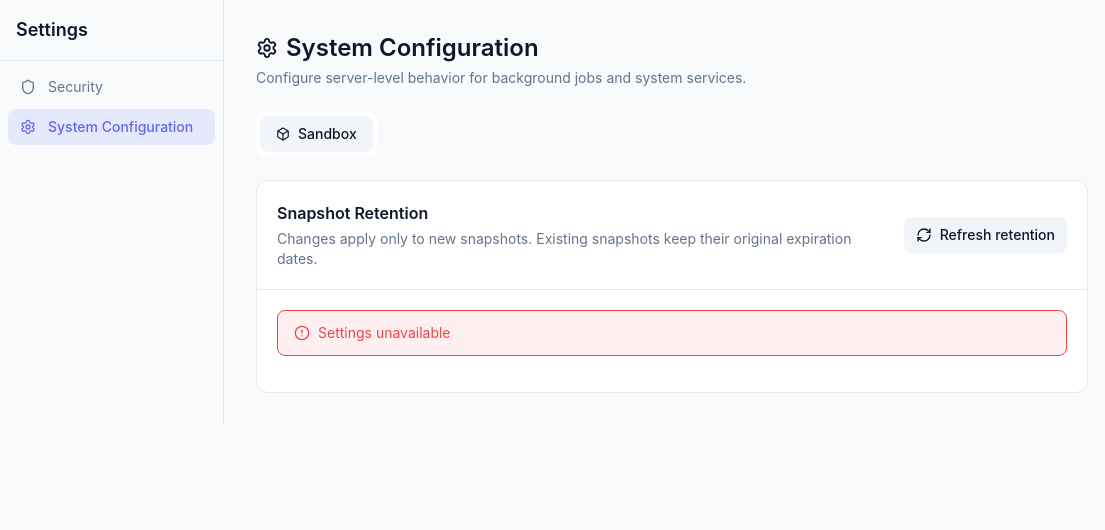
System configuration sandbox permissions › lets scoped users recover a failed retention load without fetching admin data
expect the message reads "Settings unavailable": met, box [318,324,450,341]
expect the button "save retention" is not shown: met
Step 1. Click the button "Refresh retention" → [985, 235], box [904,217,1067,253]
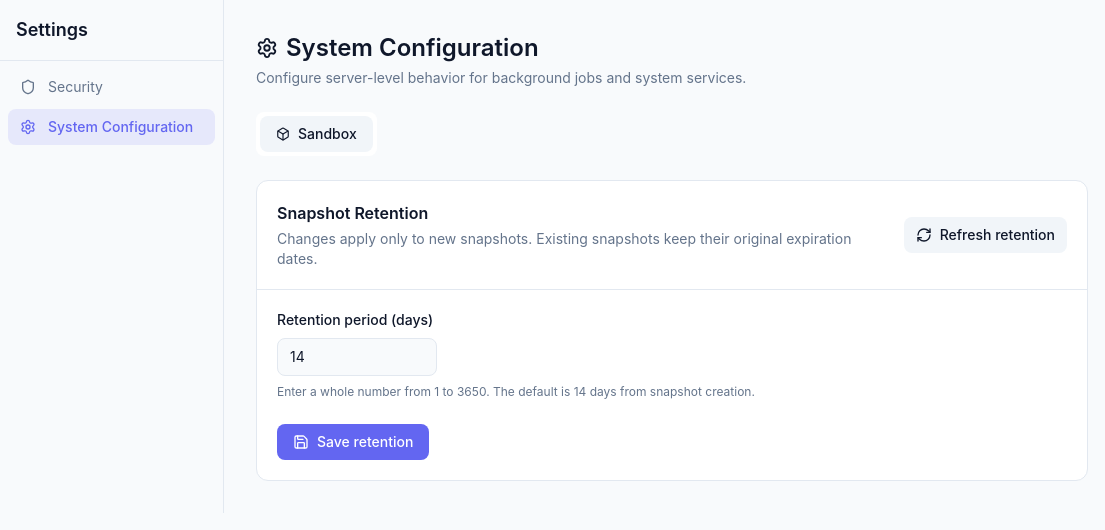
expect the number field labelled "Retention period (days)" holds "14": met, box [277,338,437,376]
